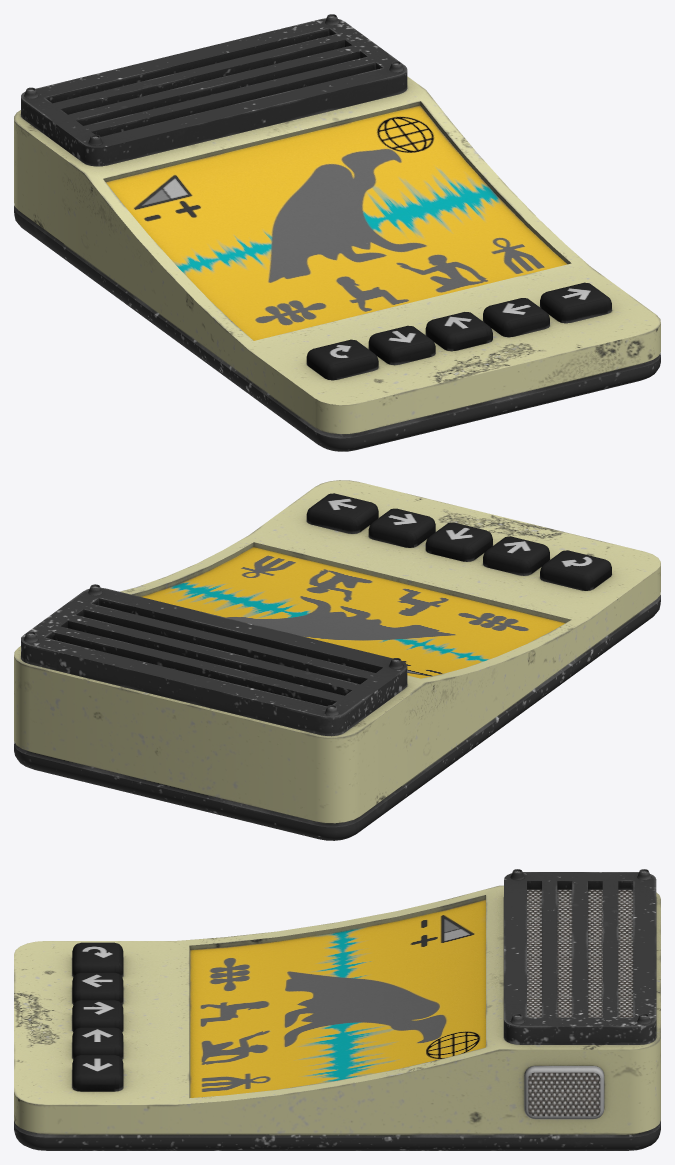
The model's file is walkietalkie.glb.
3 views of the same model, one above another, from view 1: azimuth 30°, elevation 25°; view 2: azimuth 150°, elevation 25°; view 3: azimuth 270°, elevation 25° (orthographic).
Parts seen in each view (by area): view 1: device_walkie; view 2: device_walkie; view 3: device_walkie.
Boxes of the visible parts, x1=… form: device_walkie: x1=14, y1=14, x2=660, y2=451; device_walkie: x1=14, y1=480, x2=660, y2=840; device_walkie: x1=14, y1=869, x2=660, y2=1150.
Size of the model in its own units: 0.2199 by 0.0797 by 0.3594.
Materials: 1 (1 with a texture image).
